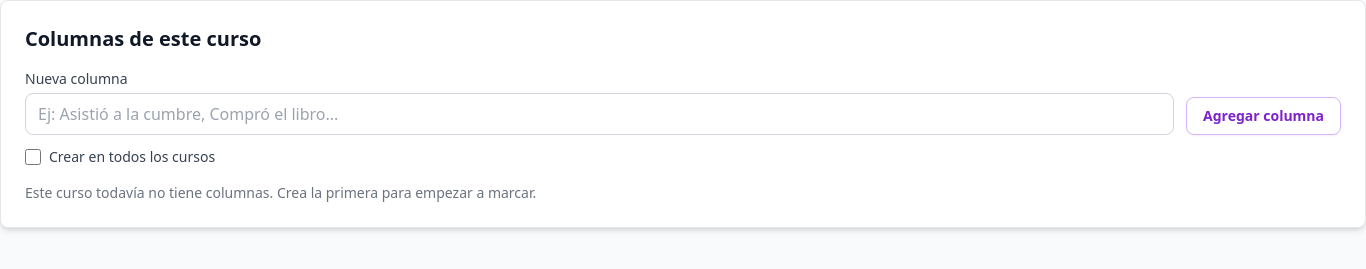
Test: crear en todos los cursos › sigue marcada después de crear, para poder dar de alta varias seguidas
Click the checkbox labelled "Crear en todos los cursos": [33, 157] box x1=25 y1=149 x2=41 y2=165
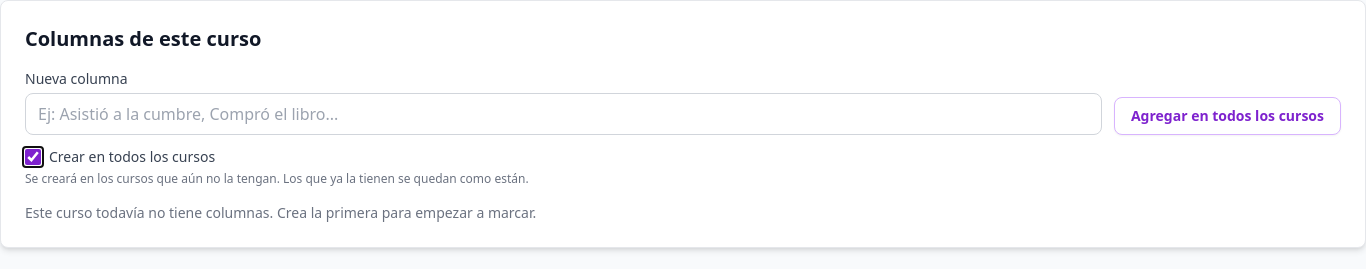
In the field labelled "Nueva columna": [564, 114] box x1=25 y1=93 x2=1102 y2=135, type "Primera"
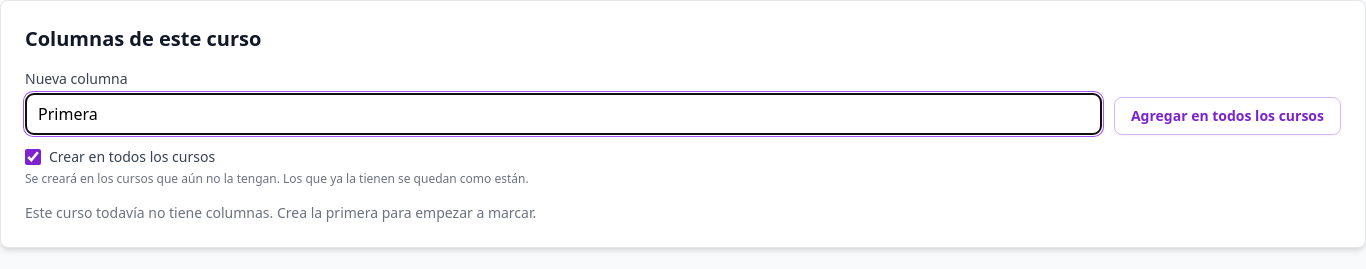
Click the button "Agregar en todos los cursos": [1228, 116] box x1=1114 y1=97 x2=1341 y2=135
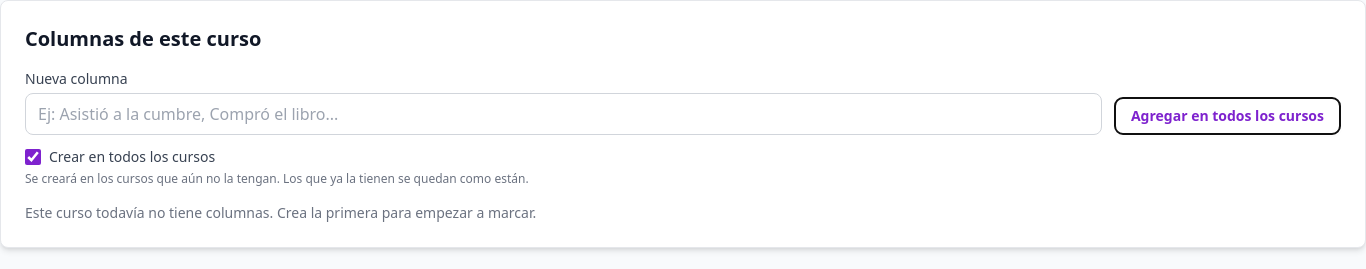
Expected: the checkbox labelled "Crear en todos los cursos" is checked, x1=25 y1=149 x2=41 y2=165
Expected: the field labelled "Nueva columna" is empty, x1=25 y1=93 x2=1102 y2=135
